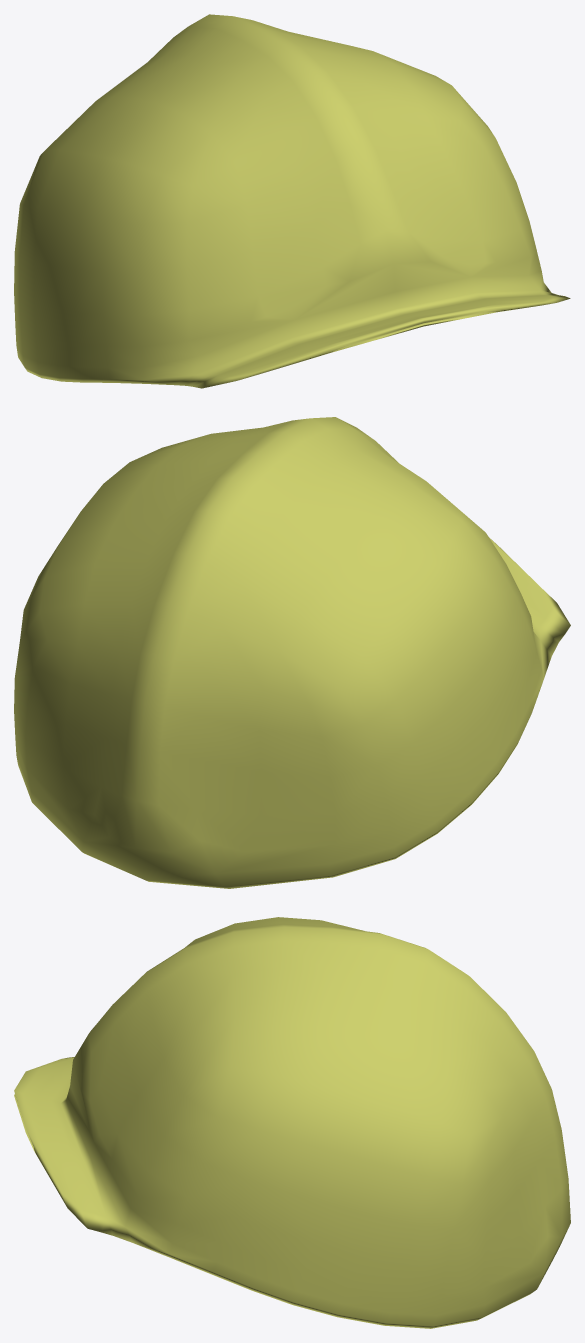
Rendered from duck (construction) hat tester.fbx.
The picture shows the model from 3 angles, top to bottom: view 1: azimuth 30°, elevation 25°; view 2: azimuth 150°, elevation 25°; view 3: azimuth 270°, elevation 25°; orthographic projection. The views are drawn at different scales.
Parts seen in each view (by area): view 1: polySurface320; view 2: polySurface320; view 3: polySurface320.
Part boxes in pixels (left/top/right/bottom): polySurface320: left=14, top=14, right=570, bottom=388; polySurface320: left=14, top=417, right=570, bottom=888; polySurface320: left=14, top=917, right=570, bottom=1328.
Bounding box in the file's own units: 2.56 × 1.95 × 2.91.
